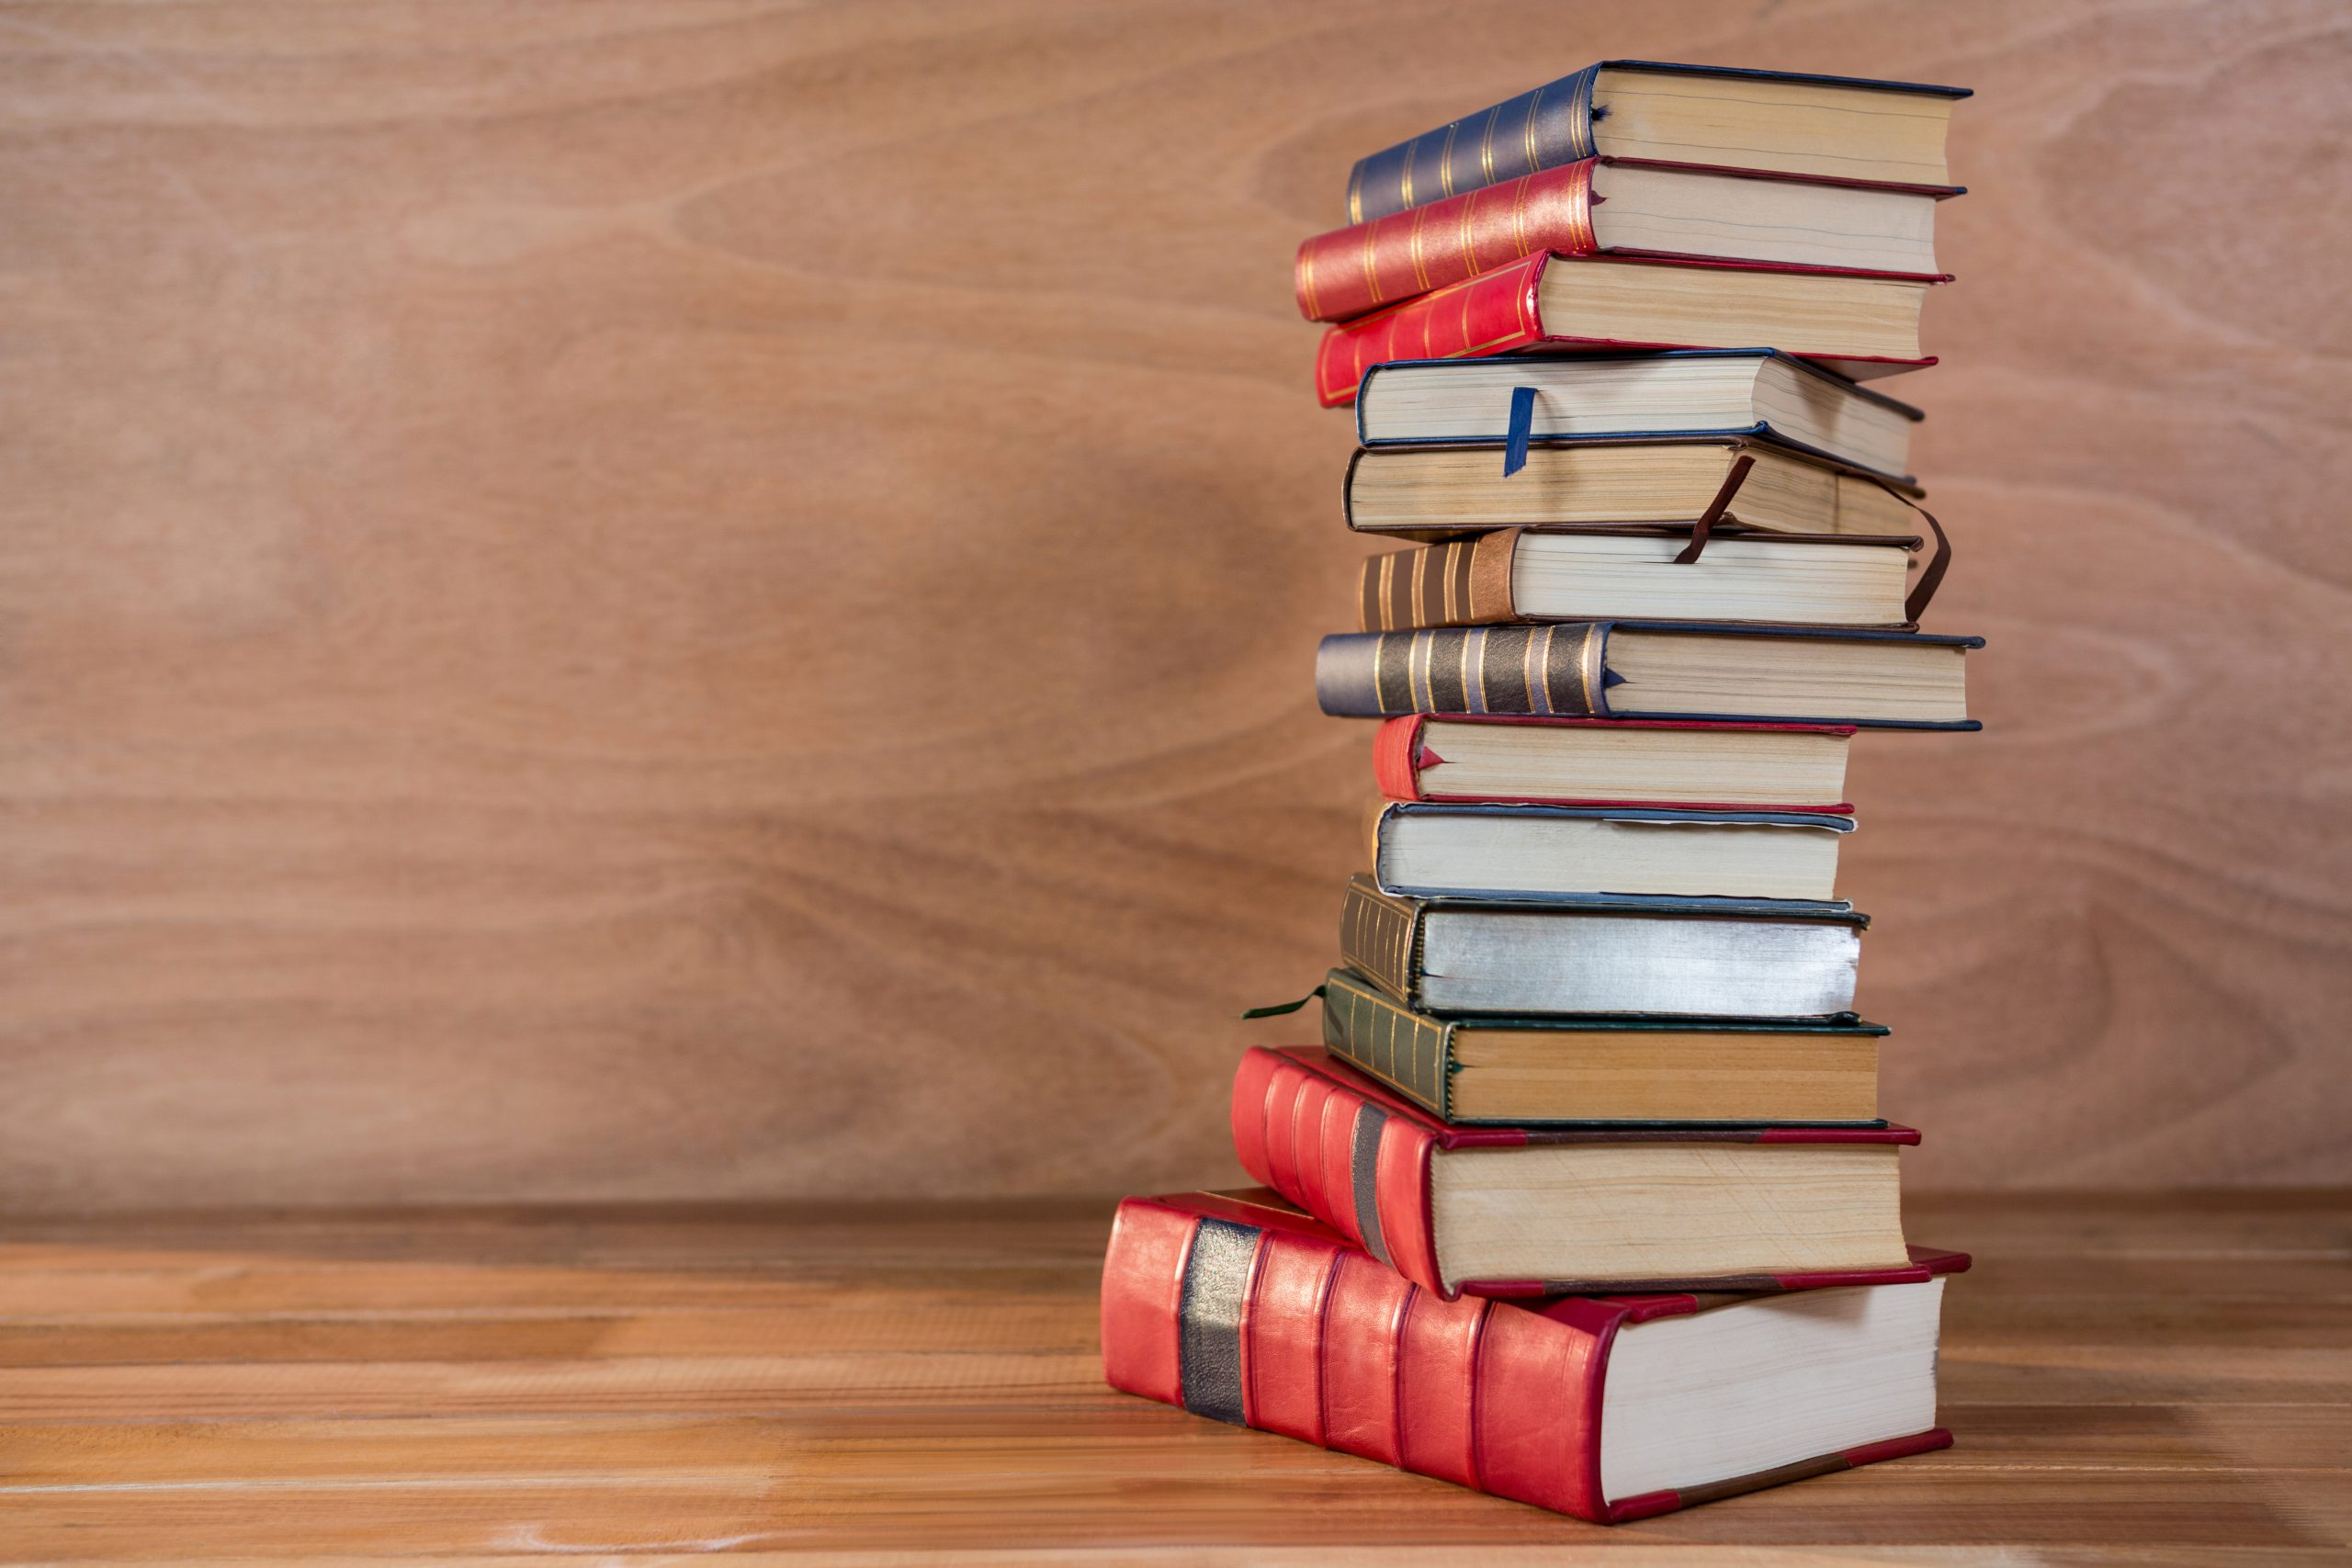buku: (1146, 51, 1979, 1484)
